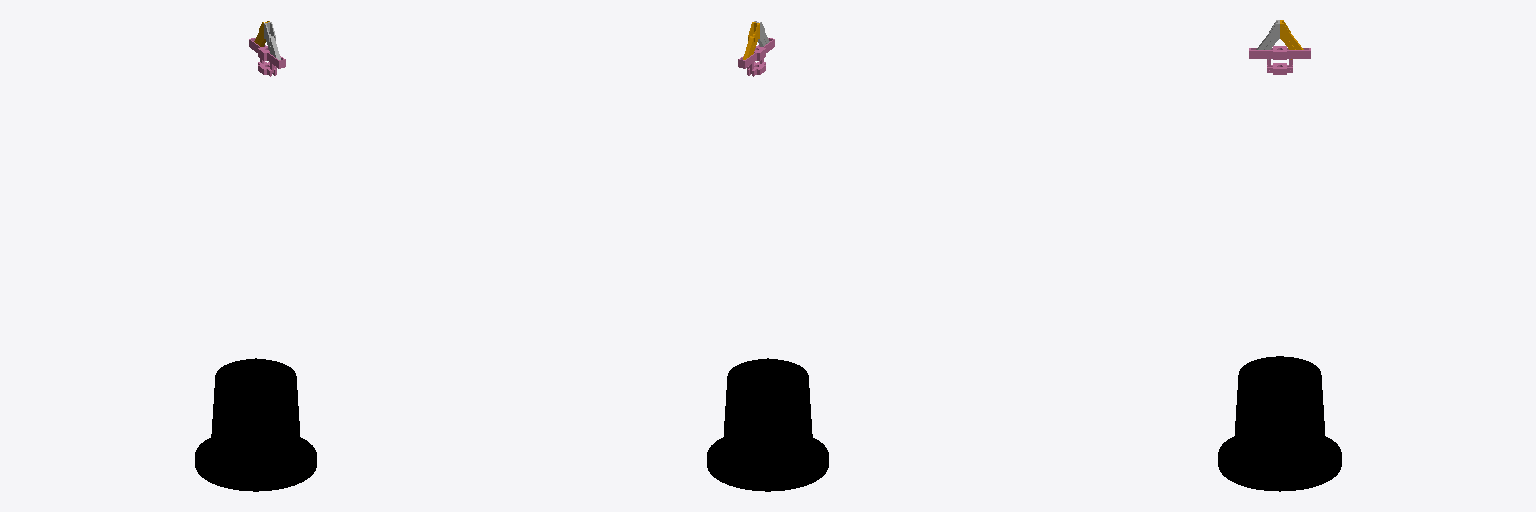
URDF robot description (robot_urdf):
<robot name="robot_urdf">

  <!-- Used for fixing robot to Gazebo 'base_link' -->
  <link name="world"/>

  <joint name="fixed" type="fixed">

    <parent link="world"/>
    <child link="base_link"/>

  </joint>
<link name="base_link">

<inertial>
      <origin
        xyz="0.13275 0.14932 0.15353"
        rpy="0 0 0" />
      <mass
        value="13.939" />
      <inertia
        ixx="0.10125"
        ixy="-0.00021844"
        ixz="-0.00033793"
        iyy="0.087972"
        iyz="0.0034335"
        izz="0.095961" />
    </inertial>
<visual>
  <geometry>
    <mesh filename="package://robot_description/meshes/collision/Base.DAE"/>
  </geometry>
</visual>
 <collision>
     <origin xyz="0 0 0" rpy="0 0 0"/>
     <geometry>
       <mesh filename="package://robot_description/meshes/collision/Base.DAE"/>
     </geometry>
   </collision>

</link>

<link name="link_1">

<inertial>
      <origin
        xyz="0.013 0 0.054"
        rpy="0 0 0" />
      <mass
        value="5.323" />
      <inertia
        ixx="0.028"
        ixy="-0.002"
        ixz="-0.003"
        iyy="0.028"
        iyz="-0.001"
        izz="0.034" />
    </inertial>
<visual>
  <geometry>
    <mesh filename="package://robot_description/meshes/collision/Parte_1.DAE"/>
  </geometry>
</visual> 
<collision>
     <origin xyz="0 0 0" rpy="0 0 0"/>
     <geometry>
       <mesh filename="package://robot_description/meshes/collision/Parte_1.DAE"/>
     </geometry>
   </collision>

</link>

<joint name="joint_1" type="revolute">

<parent link="base_link"/>
<child link="link_1"/>
<origin xyz="0 0 0.2274" rpy="0 0 0"/>
<axis xyz="0 0 1"/>
<limit lower="-2.443" upper="2.985" effort="0" velocity="0.52"/>

</joint>

<link name="link_2">

<inertial>
      <origin
        xyz="0.13275 0.14932 0.15353"
        rpy="0 0 0" />
      <mass
        value="13.939" />
      <inertia
        ixx="0.10125"
        ixy="-0.00021844"
        ixz="-0.00033793"
        iyy="0.087972"
        iyz="0.0034335"
        izz="0.095961" />
    </inertial>
<visual>
  <geometry>
    <mesh filename="package://robot_description/meshes/collision/Parte_2.DAE"/>
  </geometry>
</visual> 
<collision>
     <origin xyz="0 0 0" rpy="0 0 0"/>
     <geometry>
       <mesh filename="package://robot_description/meshes/collision/Parte_2.DAE"/>
     </geometry>
   </collision>

</link>

<joint name="joint_2" type="revolute">

<parent link="link_1"/>
<child link="link_2"/>
<origin xyz="0.0255 0 0.13" rpy="-1.570796327 -1.570796327 0"/>
<axis xyz="0 0 1"/>
<limit lower="-0.6109" upper="2.27" effort="0" velocity="0.52"/>

</joint>

<link name="link_3">

<inertial>
      <origin
        xyz="0.13275 0.14932 0.15353"
        rpy="0 0 0" />
      <mass
        value="13.939" />
      <inertia
        ixx="0.10125"
        ixy="-0.00021844"
        ixz="-0.00033793"
        iyy="0.087972"
        iyz="0.0034335"
        izz="0.095961" />
    </inertial>
<visual>
  <geometry>
    <mesh filename="package://robot_description/meshes/collision/Parte_3.DAE"/>
  </geometry>
</visual> 
<collision>
     <origin xyz="0 0 0" rpy="0 0 0"/>
     <geometry>
      <mesh filename="package://robot_description/meshes/collision/Parte_3.DAE"/>
     </geometry>
   </collision>

</link>

<joint name="joint_3" type="revolute">

<parent link="link_2"/>
<child link="link_3"/>
<origin xyz="0.2225 0 0" rpy="0 0 0"/>
<axis xyz="0 0 1"/>
<limit lower="-2.27" upper="2.27" effort="0" velocity="0.52"/>

</joint>


<link name="link_4">

<inertial>
      <origin
        xyz="0.13275 0.14932 0.15353"
        rpy="0 0 0" />
      <mass
        value="13.939" />
      <inertia
        ixx="0.10125"
        ixy="-0.00021844"
        ixz="-0.00033793"
        iyy="0.087972"
        iyz="0.0034335"
        izz="0.095961" />
    </inertial>
<visual>
<origin rpy="0 0 0" xyz="0.012 0 0"/>
  <geometry>
    <mesh filename="package://robot_description/meshes/collision/Parte_4.DAE"/>
  </geometry>
</visual> 
<collision>
     <origin xyz="0 0 0" rpy="0 0 0"/>
     <geometry>
      <mesh filename="package://robot_description/meshes/collision/Parte_4.DAE"/>
     </geometry>
   </collision>

</link>

<joint name="joint_4" type="revolute">

<parent link="link_3"/>
<child link="link_4"/>
<origin xyz="0.2225 0 0" rpy="0 0 0"/>
<axis xyz="0 0 1"/>
<limit lower="-2.27" upper="2.27" effort="0" velocity="0.52"/>

</joint>


<link name="link_5">

<inertial>
      <origin
        xyz="0.13275 0.14932 0.15353"
        rpy="0 0 0" />
      <mass
        value="13.939" />
      <inertia
        ixx="0.10125"
        ixy="-0.00021844"
        ixz="-0.00033793"
        iyy="0.087972"
        iyz="0.0034335"
        izz="0.095961" />
    </inertial>
<visual>
  <geometry>
    <mesh filename="package://robot_description/meshes/collision/Parte_5.DAE"/>
  </geometry>
</visual> 
<collision>
     <origin xyz="0 0 0" rpy="0 0 0"/>
     <geometry>
      <mesh filename="package://robot_description/meshes/collision/Parte_5.DAE"/>
     </geometry>
   </collision>

</link>

<joint name="joint_5" type="revolute">

<parent link="link_4"/>
<child link="link_5"/>
<origin xyz="0.08 0 0" rpy="0 1.570796327 0"/>
<axis xyz="0 0 1"/>
<limit lower="-3.1416" upper="3.1416" effort="0" velocity="0.52"/>

</joint>

<link name="gripper_left">

<inertial>
      <origin0
        xyz="0.13275 0.14932 0.15353"
        rpy="0 0 0" />
      <mass
        value="13.939" />
      <inertia
        ixx="0.10125"
        ixy="-0.00021844"
        ixz="-0.00033793"
        iyy="0.087972"
        iyz="0.0034335"
        izz="0.095961" />
    </inertial>
<visual>
  <origin xyz="-0.0367 0 0" rpy="0 0 0"/>
  <geometry>
    <mesh filename="package://robot_description/meshes/collision/Gripper.DAE"/>
  </geometry>
</visual> 
<collision>
     <origin xyz="0 0 0" rpy="0 0 0"/>
     <geometry>
      <mesh filename="package://robot_description/meshes/collision/Gripper.DAE"/>
     </geometry>
   </collision>

</link>

<joint name="gripper" type="revolute">

<parent link="link_5"/>
<child link="gripper_left"/>
<origin xyz="0.0367 0 0" rpy="0 0 0"/>
<axis xyz="0 1 0"/>
<limit lower="0" upper="0.625" effort="0" velocity="0.52"/>

</joint>


<link name="gripper_right">

<inertial>
      <origin
        xyz="0.13275 0.14932 0.15353"
        rpy="0 0 0" />
      <mass
        value="13.939" />
      <inertia
        ixx="0.10125"
        ixy="-0.00021844"
        ixz="-0.00033793"
        iyy="0.087972"
        iyz="0.0034335"
        izz="0.095961" />
    </inertial>
<visual>
  <origin xyz="-0.0367 0 0" rpy="0 0 0"/>
  <geometry>
    <mesh filename="package://robot_description/meshes/collision/Gripper.DAE"/>
  </geometry>
</visual> 
<collision>
     <origin xyz="0 0 0" rpy="0 0 0"/>
     <geometry>
      <mesh filename="package://robot_description/meshes/collision/Gripper.DAE"/>
     </geometry>
   </collision>

</link>

<joint name="gripper_mimic" type="revolute">

<mimic joint="gripper" />
<parent link="link_5"/>
<child link="gripper_right"/>
<origin xyz="-0.0367 0 0" rpy="0 0 3.141592654"/>
<axis xyz="0 1 0"/>
<limit lower="0" upper="0.625" effort="0" velocity="0.52"/>

</joint>


  </robot>

--- Facts derived from the render (not from the file) ---
3 views of the same robot in one strip: view 1: azimuth 30°, elevation 25°; view 2: azimuth 150°, elevation 25°; view 3: azimuth 270°, elevation 25° (orthographic).
Model robot_urdf with 9 links and 8 joints (7 revolute, 1 fixed), rooted at world, posed all joints at 0.
Links seen in each view (by area): view 1: base_link, link_5; view 2: base_link, link_5; view 3: base_link, link_5.
Link boxes in pixels (x1=…): base_link: x1=195, y1=358, x2=316, y2=491; link_5: x1=249, y1=38, x2=285, y2=76; base_link: x1=707, y1=358, x2=828, y2=491; link_5: x1=738, y1=38, x2=774, y2=76; base_link: x1=1218, y1=356, x2=1341, y2=491; link_5: x1=1249, y1=46, x2=1310, y2=74.
Size in the robot's own frame: 0.24 by 0.24 by 0.9574 metres.
4 mesh visuals loaded from 7 distinct referenced files (3 Collada DAE); not drawn: 4 (reference not matched to a file when rendering).
